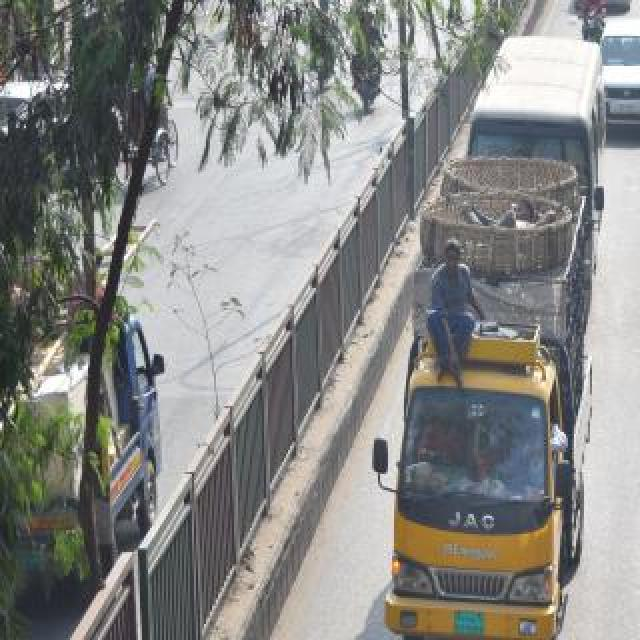car: (590, 12, 640, 158)
truck: (350, 174, 618, 640)
van: (0, 242, 204, 640)
